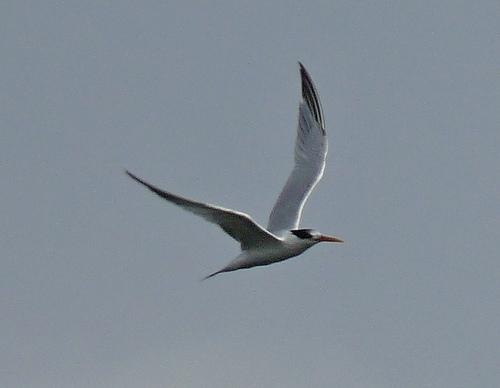bird: (123, 57, 346, 281)
